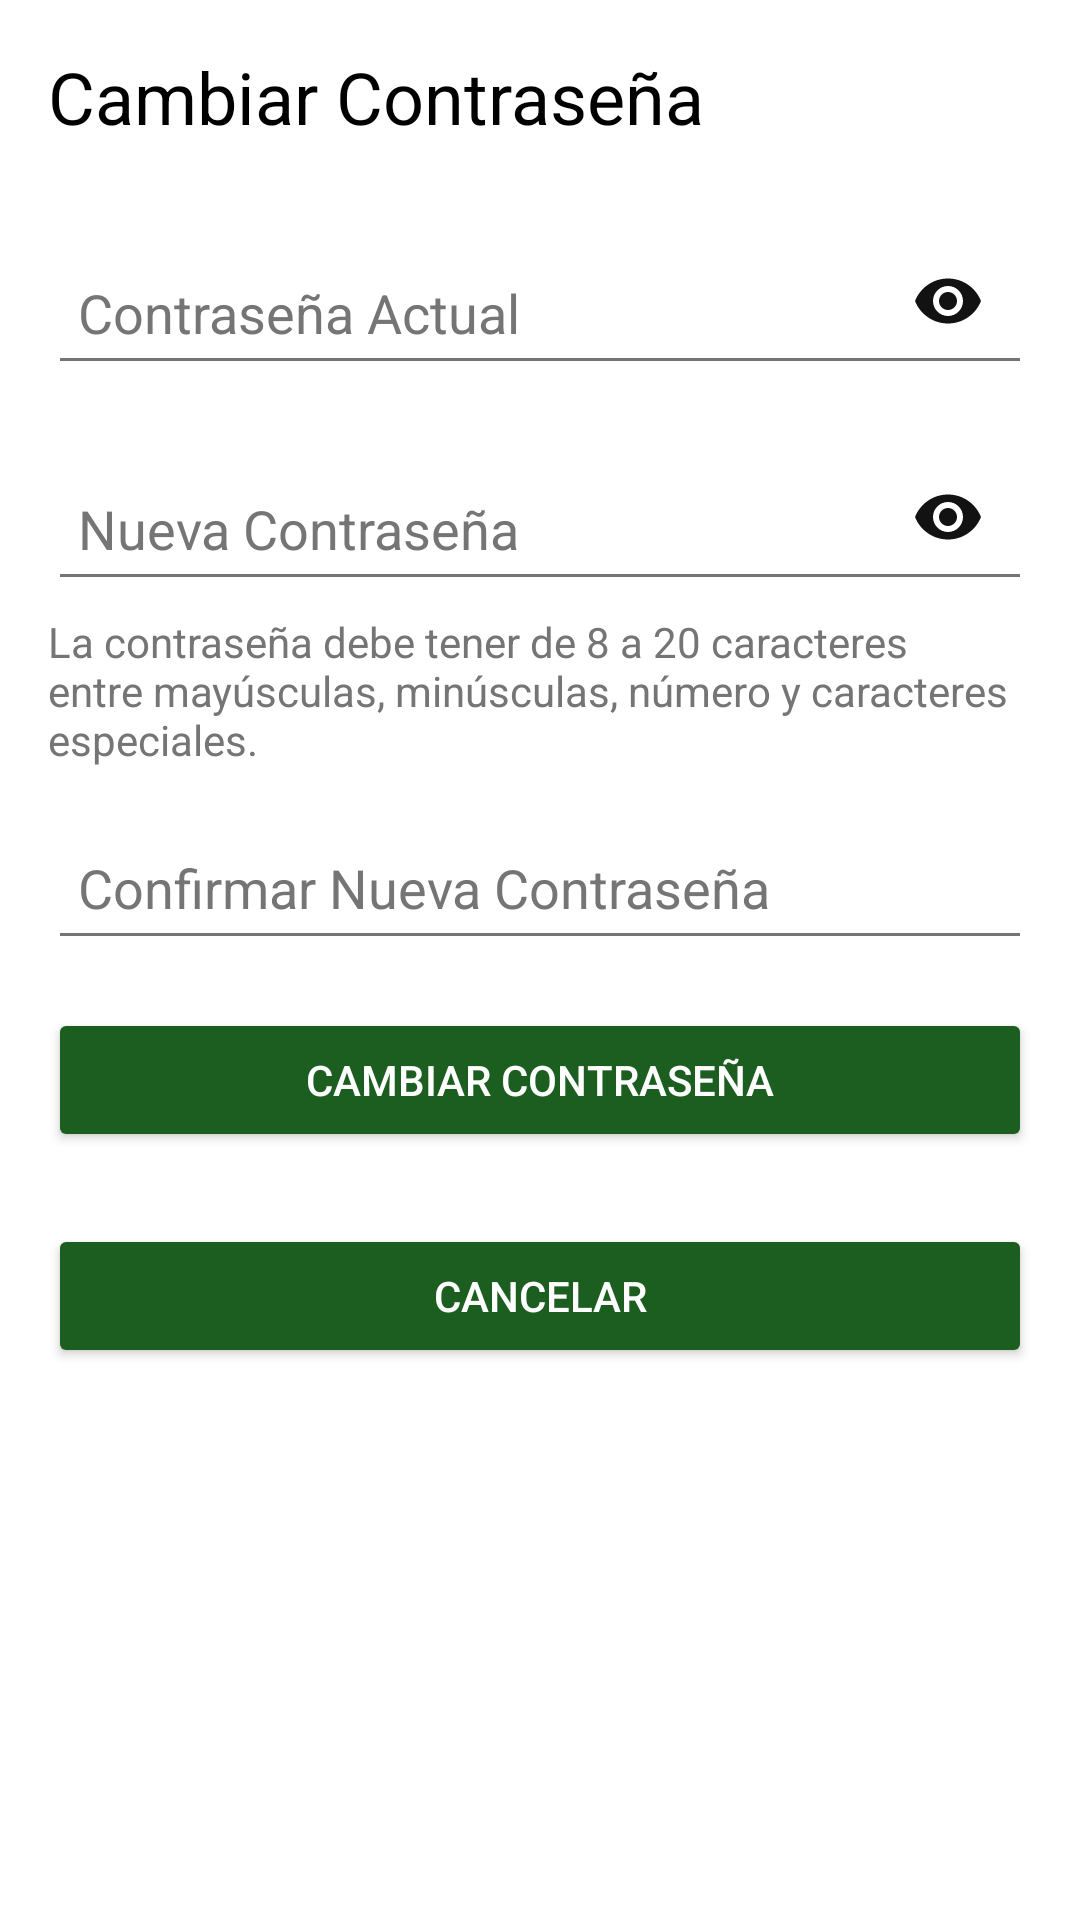

Point at icon controls on the screen. Image size 1080 x 1920, points as (x=x, y=y).
Mostrar/Ocultar contraseña: (x=948, y=301), (x=948, y=517)
